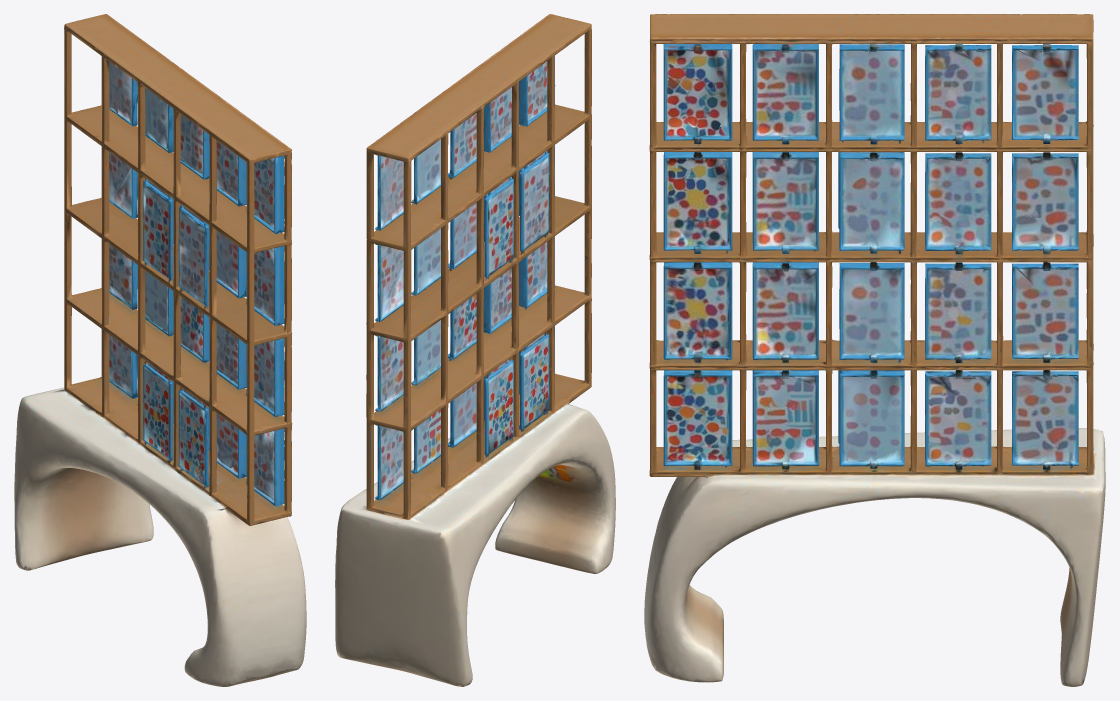
3 views of the same model, side by side, from view 1: azimuth 30°, elevation 25°; view 2: azimuth 150°, elevation 25°; view 3: azimuth 270°, elevation 25° (orthographic). The views are drawn at different scales.
Parts seen in each view (by area): view 1: tripo_node_38d7c0de-2419-429c-9bd8-2d568782ec08; view 2: tripo_node_38d7c0de-2419-429c-9bd8-2d568782ec08; view 3: tripo_node_38d7c0de-2419-429c-9bd8-2d568782ec08.
Part boxes in pixels (x1,y1,x2,y2): tripo_node_38d7c0de-2419-429c-9bd8-2d568782ec08: (14,14,306,686); tripo_node_38d7c0de-2419-429c-9bd8-2d568782ec08: (335,14,615,686); tripo_node_38d7c0de-2419-429c-9bd8-2d568782ec08: (644,14,1105,686).
Size of the model in its own units: 0.2618 by 0.9793 by 0.6492.
1 material, 1 textured.
